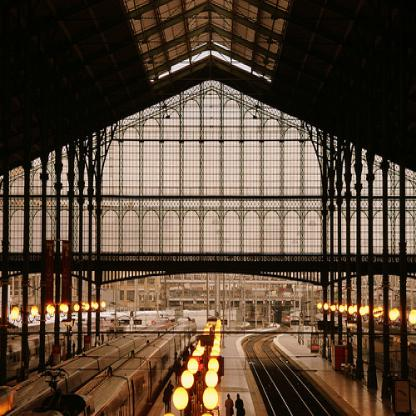train: (0, 322, 171, 414), (53, 316, 200, 415), (5, 317, 121, 384)
